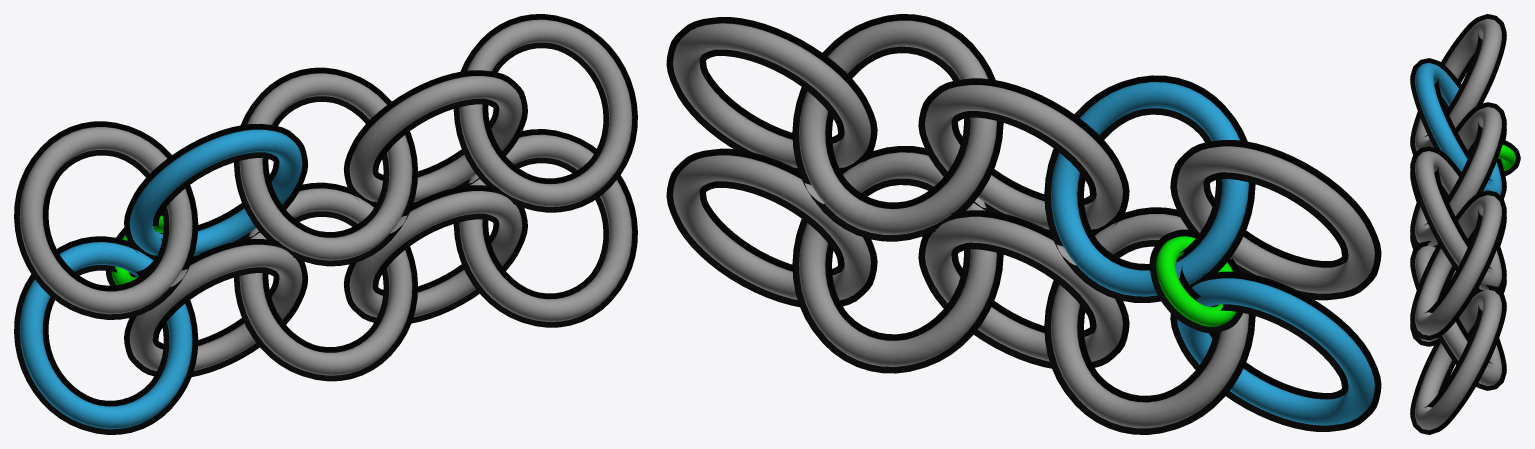
File: magus_weave_step_04.glb
3 renders of one model, left to right at view 1: azimuth 30°, elevation 25°; view 2: azimuth 150°, elevation 25°; view 3: azimuth 270°, elevation 25°, orthographic. The views are drawn at different scales.
Visible parts, largest first — view 1: Torus.721, Torus.725, Torus.723, Torus.730, Torus.726, Torus.728, Torus.722, Torus.724, Torus.727, Torus.729, Torus.770; view 2: Torus.722, Torus.724, Torus.727, Torus.721, Torus.725, Torus.726, Torus.729, Torus.730, Torus.723, Torus.728, Torus.770; view 3: Torus.721, Torus.726, Torus.725, Torus.722, Torus.723, Torus.724, Torus.727, Torus.770, Torus.728.
Boxes of the visible parts, <box> form: Torus.721: <box>453,14,637,212</box>; Torus.725: <box>14,121,198,319</box>; Torus.723: <box>234,67,417,266</box>; Torus.730: <box>14,236,198,434</box>; Torus.726: <box>453,129,637,327</box>; Torus.728: <box>234,182,417,381</box>; Torus.722: <box>344,70,527,207</box>; Torus.724: <box>124,123,307,260</box>; Torus.727: <box>344,185,527,323</box>; Torus.729: <box>124,239,307,376</box>; Torus.770: <box>106,213,163,285</box>; Torus.722: <box>792,14,1003,241</box>; Torus.724: <box>1044,75,1255,302</box>; Torus.727: <box>792,146,1003,373</box>; Torus.721: <box>666,17,877,173</box>; Torus.725: <box>1170,140,1381,300</box>; Torus.726: <box>666,148,877,307</box>; Torus.729: <box>1044,207,1255,434</box>; Torus.730: <box>1170,271,1381,431</box>; Torus.723: <box>918,78,1129,235</box>; Torus.728: <box>918,210,1129,368</box>; Torus.770: <box>1149,229,1242,333</box>; Torus.721: <box>1410,190,1506,340</box>; Torus.726: <box>1410,285,1506,434</box>; Torus.725: <box>1410,14,1506,154</box>; Torus.722: <box>1410,146,1506,292</box>; Torus.723: <box>1410,102,1506,246</box>; Torus.724: <box>1410,58,1506,198</box>; Torus.727: <box>1410,241,1506,390</box>; Torus.770: <box>1496,140,1520,175</box>; Torus.728: <box>1410,217,1506,346</box>.
Size of the model in its own units: 12.28 by 5.29 by 2.33.
